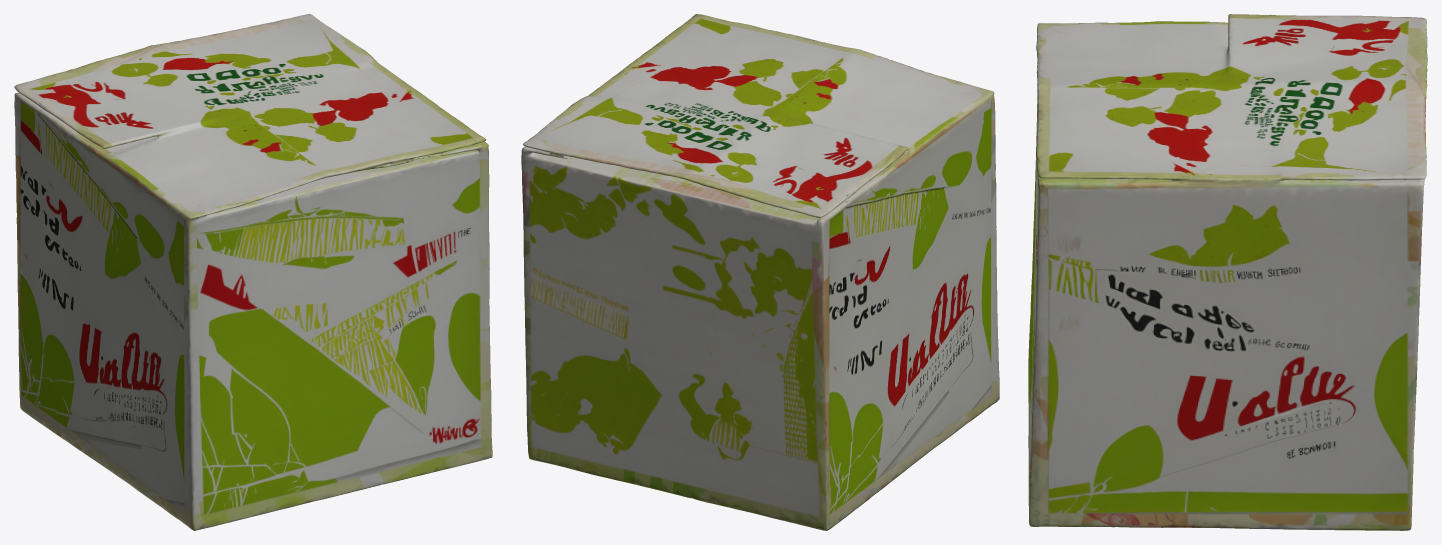
Rendered from caixa-perillosos.glb.
3 renders of one model, left to right at view 1: azimuth 30°, elevation 25°; view 2: azimuth 150°, elevation 25°; view 3: azimuth 270°, elevation 25°, orthographic. The views are drawn at different scales.
Bounding box in the file's own units: 1.95 × 2 × 2.01.
1 material, 1 textured.
